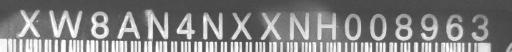letter: (142, 8, 176, 46), (46, 7, 84, 39), (114, 6, 144, 44), (254, 7, 286, 41), (199, 9, 229, 43), (228, 6, 256, 42), (14, 7, 46, 38), (286, 9, 314, 39), (338, 10, 366, 40), (364, 11, 392, 41), (442, 13, 470, 43), (468, 9, 492, 43), (314, 10, 340, 40), (174, 11, 200, 41), (88, 10, 112, 40), (392, 12, 416, 42), (417, 12, 441, 42)
